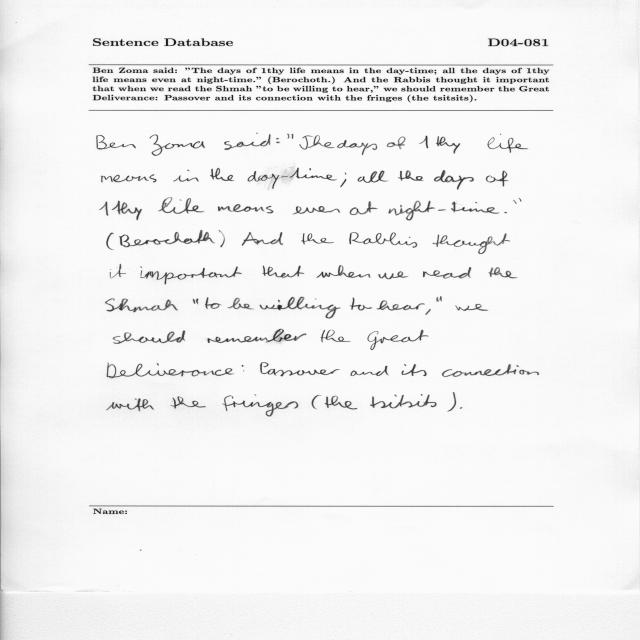word: (389, 201, 500, 221), (107, 363, 234, 378), (247, 168, 337, 189), (140, 267, 242, 285), (260, 297, 341, 319), (223, 395, 299, 417), (432, 233, 510, 254), (119, 231, 215, 248), (208, 329, 307, 343), (442, 364, 539, 377), (150, 134, 206, 156), (368, 330, 429, 350), (350, 232, 418, 248), (260, 363, 340, 376), (105, 299, 178, 313), (113, 330, 185, 344), (370, 394, 437, 408), (488, 133, 529, 153), (434, 170, 474, 190), (100, 201, 142, 220), (158, 197, 204, 214), (224, 134, 271, 150), (419, 136, 460, 154), (317, 265, 370, 278), (106, 399, 154, 412), (337, 140, 377, 155), (242, 232, 283, 246), (97, 135, 136, 149), (423, 267, 471, 278), (377, 300, 425, 311), (262, 266, 304, 278), (218, 204, 273, 213), (300, 136, 335, 150), (110, 264, 142, 279), (102, 174, 156, 182), (170, 397, 206, 409), (325, 396, 358, 409), (358, 170, 389, 183), (350, 201, 378, 215), (351, 366, 389, 376), (293, 206, 340, 214), (320, 330, 351, 342), (301, 234, 334, 245), (486, 171, 508, 186), (210, 168, 235, 181), (489, 267, 518, 278), (173, 170, 199, 182), (401, 364, 427, 376), (350, 298, 372, 311), (398, 170, 423, 181), (228, 298, 253, 309), (379, 272, 409, 280), (455, 304, 488, 311), (387, 137, 406, 149), (205, 297, 221, 309), (448, 393, 457, 412), (312, 395, 321, 409), (107, 233, 114, 250), (219, 231, 225, 248), (341, 173, 347, 187), (513, 198, 522, 204), (425, 309, 431, 315), (436, 296, 442, 302), (287, 134, 294, 139), (193, 299, 198, 305), (276, 138, 280, 143), (242, 365, 244, 371), (460, 407, 462, 409), (504, 212, 507, 213)
